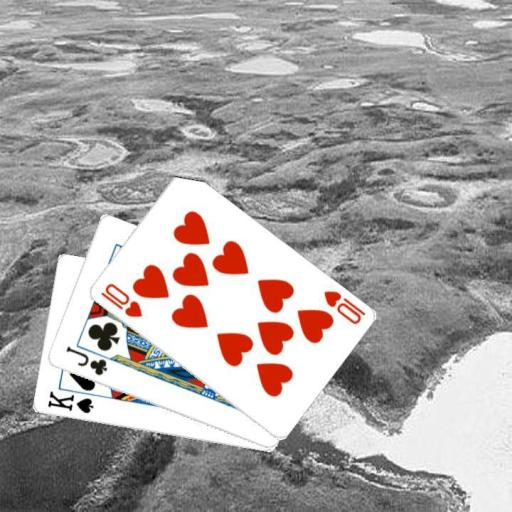10H: (97, 280, 144, 319), (320, 288, 366, 327)
JC: (62, 343, 108, 378)
KS: (44, 389, 95, 416)
